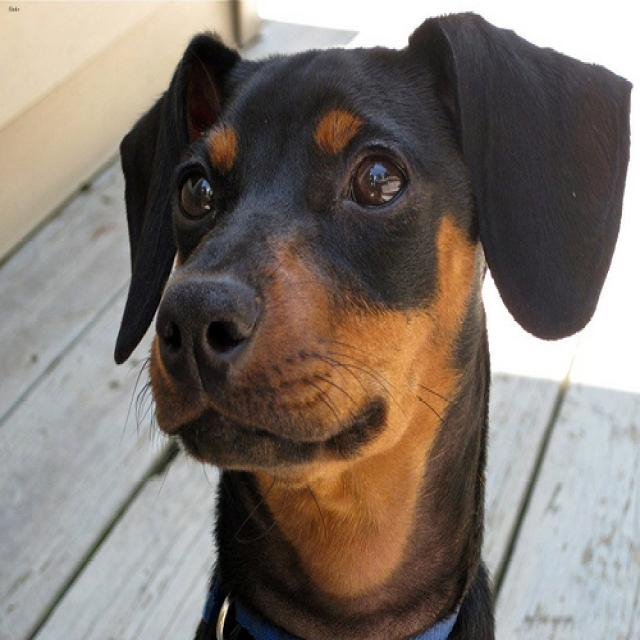dog-miniature_pinscher: (102, 2, 637, 637)
